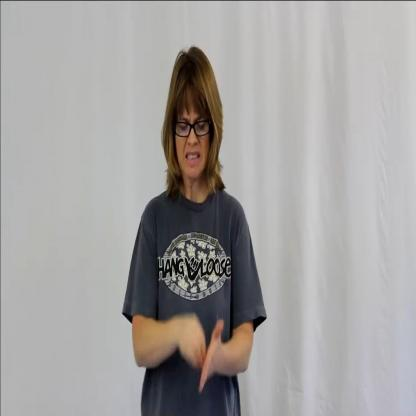Expensive: (121, 42, 267, 416)
